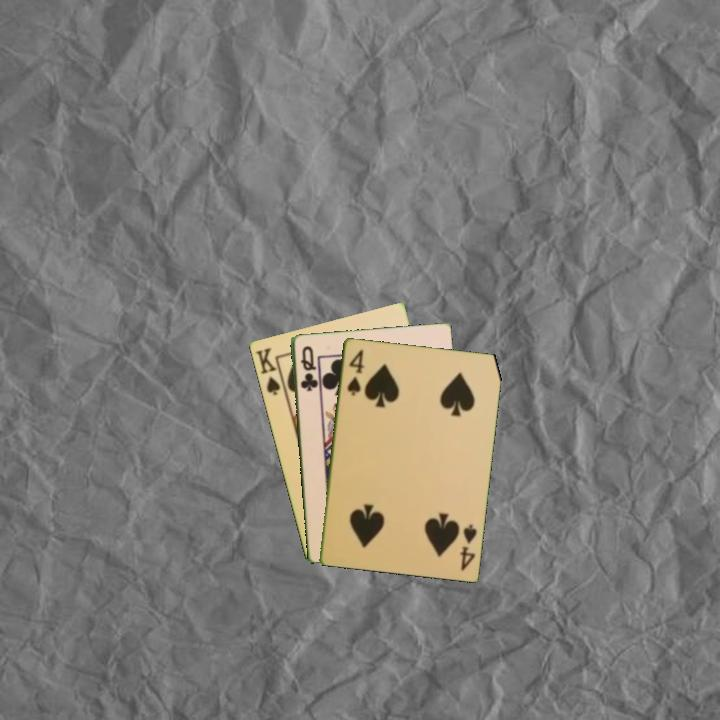4s: (343, 346, 366, 399), (456, 520, 479, 573)
Ks: (252, 344, 288, 398)
Qc: (297, 342, 320, 394)
